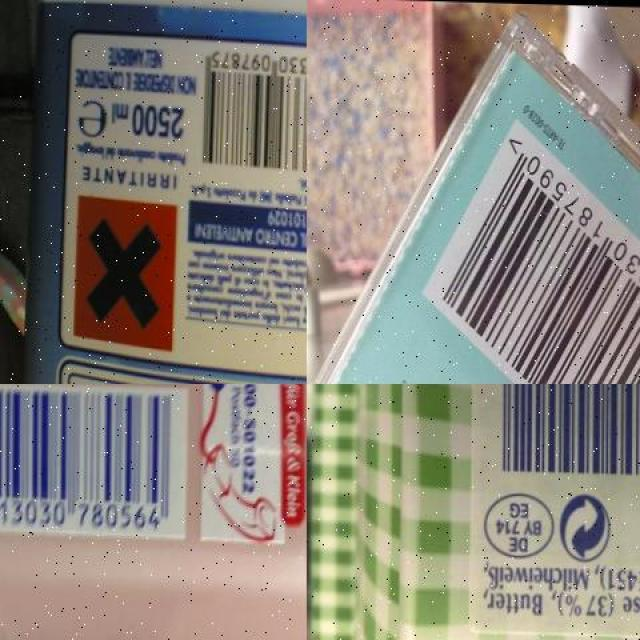Barcode: (420, 111, 640, 384), (0, 384, 189, 538), (482, 384, 640, 492), (196, 37, 307, 180)
